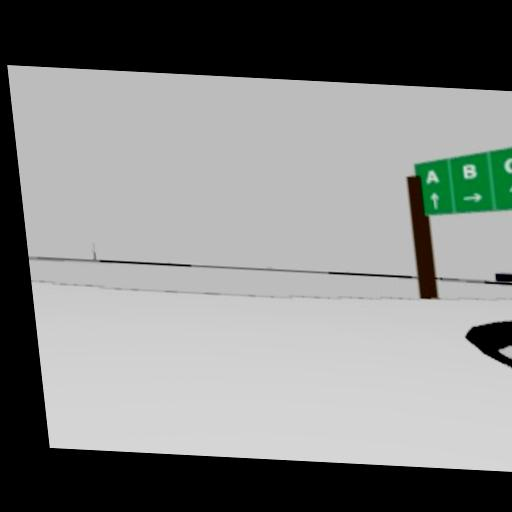A: (424, 169, 442, 184)
B: (459, 163, 480, 178)
C: (500, 154, 512, 173)
Right: (461, 190, 484, 203)
Straight: (428, 191, 442, 210), (508, 182, 512, 204)
